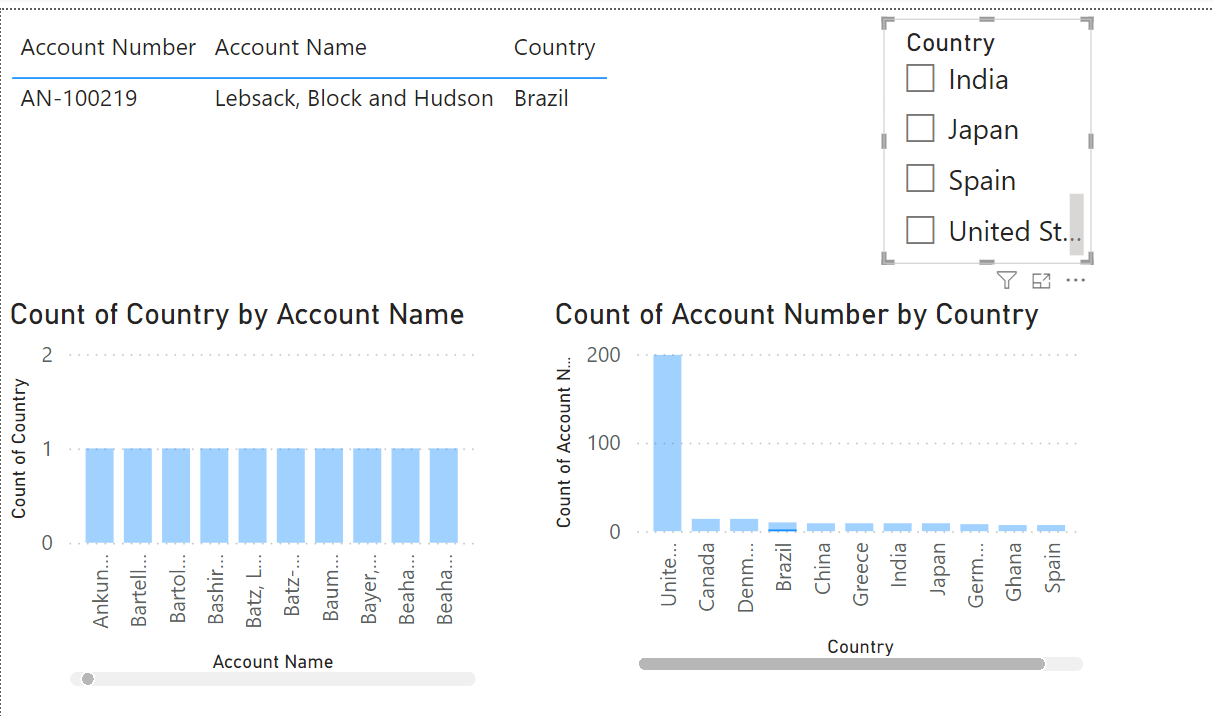

The dashboard page shown, as its layout file describes it:
{"tool":"powerbi","page":{"name":"Page 1","canvas":[1280,720],"ordinal":0},"visuals":[{"type":"columnChart","fields":{"Y":["CountNonNull(Accounts.Account Number)"],"Category":["Accounts.Country"]},"box":[311.4,163.6,312.1,219.3],"z":0},{"type":"columnChart","fields":{"Y":["CountNonNull(Accounts.Country)"],"Category":["Accounts.Account Name"]},"box":[0,163.6,276.4,227.9],"z":1000},{"type":"slicer","fields":{"Values":["Accounts.Country"]},"box":[504.3,5,119.3,140],"z":2000},{"type":"tableEx","fields":{"Values":["Accounts.Account Number","Accounts.Account Name","Accounts.Country"]},"box":[0,5,361.4,153.6],"z":3000}]}

Visuals, with their boxes on the page's 1280x720 design canvas (x1, y1, x2, y2). These are canvas units, not pixel positions in the 1213x716 screenshot, which may show the page scaled, cropped or inside an application window:
columnChart - CountNonNull(Accounts.Account Number) x Accounts.Country: 311:164:624:383
columnChart - CountNonNull(Accounts.Country) x Accounts.Account Name: 0:164:276:392
slicer - Accounts.Country: 504:5:624:145
tableEx - Accounts.Account Number x Accounts.Account Name: 0:5:361:159
